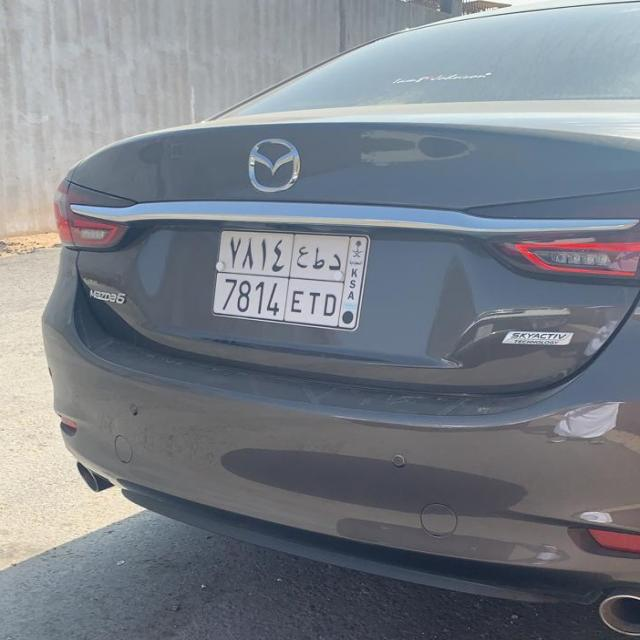license_plate: (209, 228, 374, 334)
